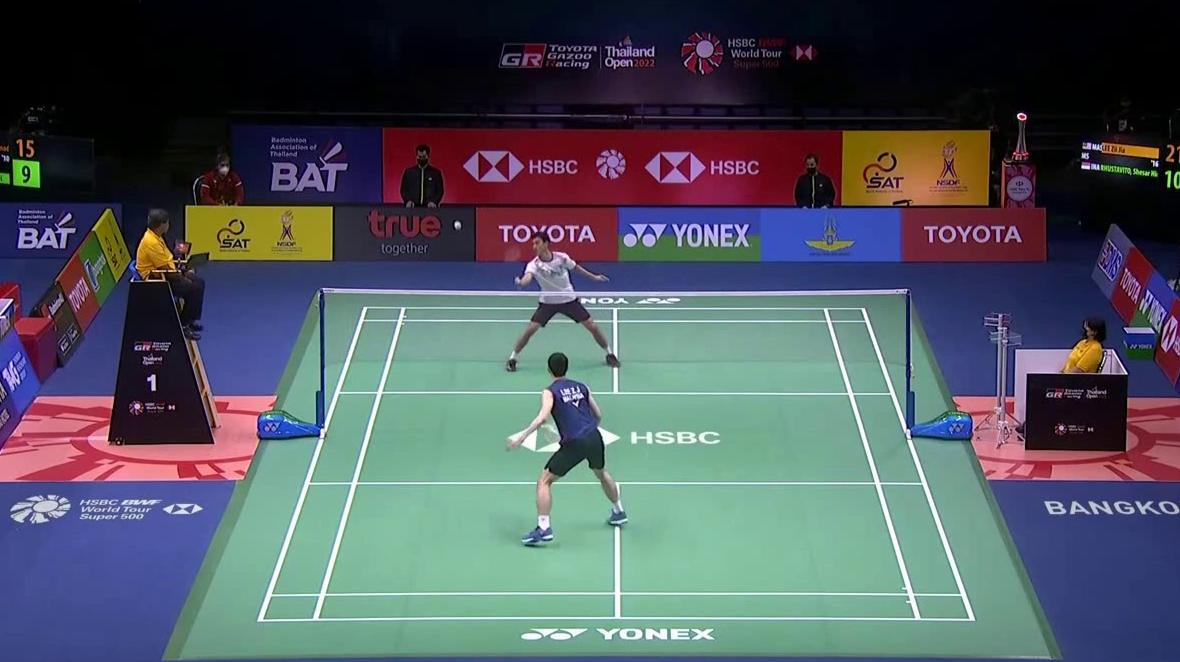racket: (503, 245, 522, 290), (543, 423, 581, 445)
shuttle: (454, 221, 461, 230)
